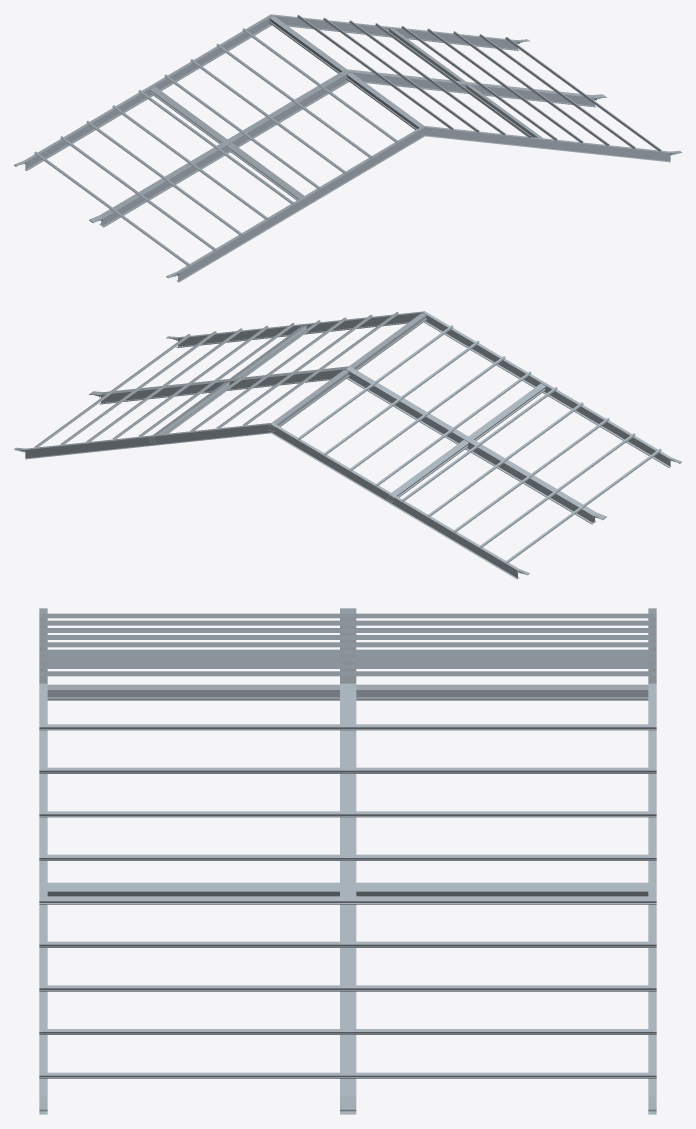
The model's file is SM06_Building_Structure_Roof_Gable_02_Default.fbx.
3 renders of one model, top to bottom at view 1: azimuth 30°, elevation 25°; view 2: azimuth 150°, elevation 25°; view 3: azimuth 270°, elevation 25°, orthographic. The views are drawn at different scales.
Visible parts, largest first — view 1: SM06_Building_Structure_Roof_Gable_02_Default; view 2: SM06_Building_Structure_Roof_Gable_02_Default; view 3: SM06_Building_Structure_Roof_Gable_02_Default.
Part boxes in pixels (box(x1,y1,x2,y2)): SM06_Building_Structure_Roof_Gable_02_Default: box(14, 14, 681, 282); SM06_Building_Structure_Roof_Gable_02_Default: box(14, 311, 681, 579); SM06_Building_Structure_Roof_Gable_02_Default: box(39, 608, 656, 1114).
Bounding box in the file's own units: 28.84 × 5.12 × 15.
